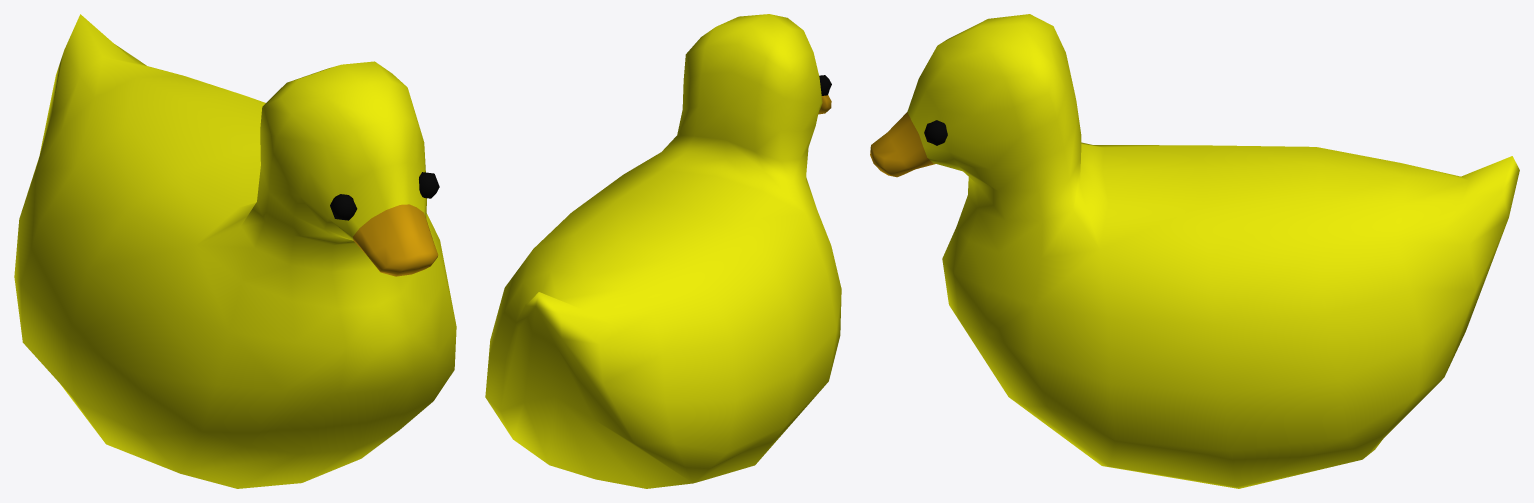
File: FBXDuck.fbx
The picture shows the model from 3 angles, left to right: view 1: azimuth 30°, elevation 25°; view 2: azimuth 150°, elevation 25°; view 3: azimuth 270°, elevation 25°; orthographic projection. The views are drawn at different scales.
Visible parts, largest first — view 1: pCube4; view 2: pCube4; view 3: pCube4.
Boxes of the visible parts, x1=… form: pCube4: x1=14, y1=14, x2=456, y2=488; pCube4: x1=485, y1=14, x2=841, y2=488; pCube4: x1=870, y1=14, x2=1519, y2=488.
Bounding box in the file's own units: 6.31 × 8.52 × 11.34.
